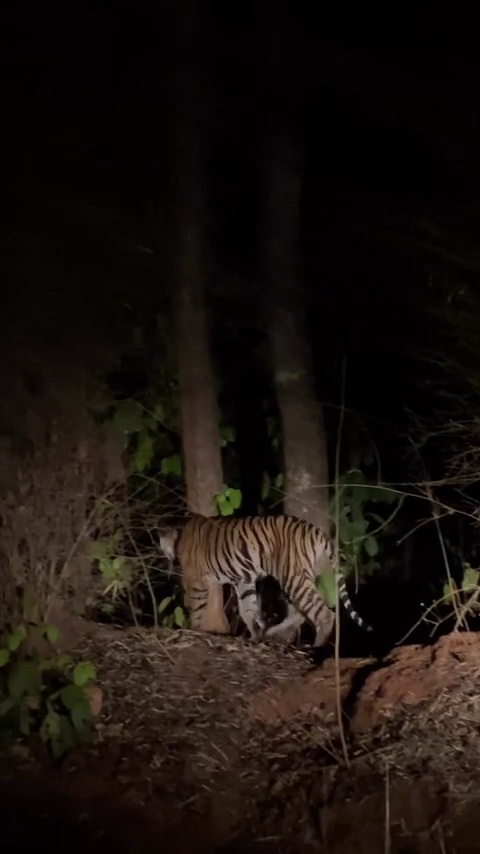Tiger: (156, 512, 375, 644)
